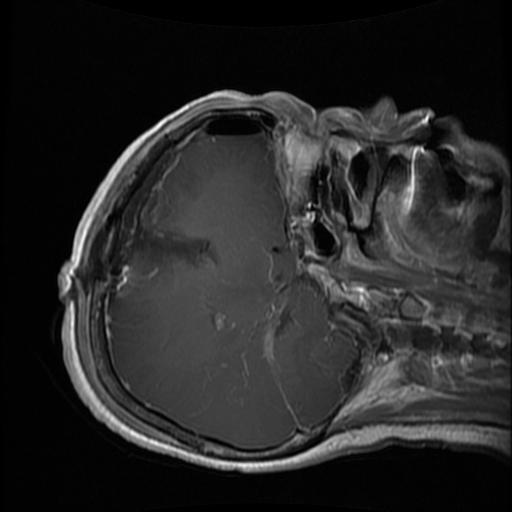glioma: (122, 179, 218, 280)
